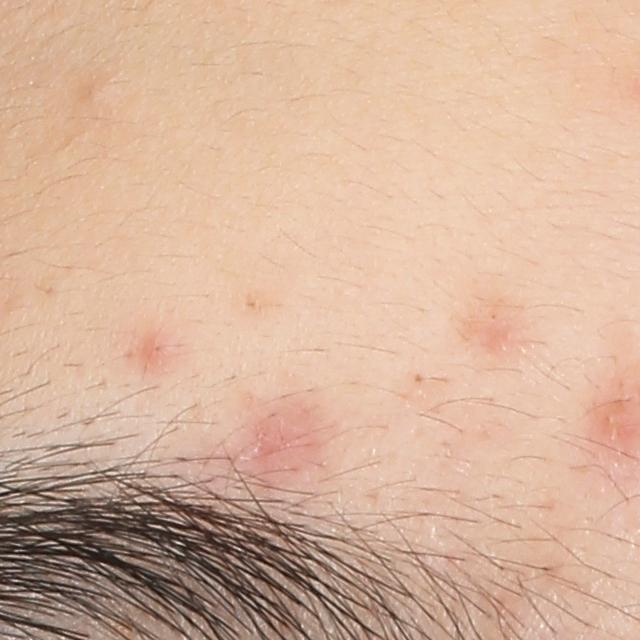comedo: (80, 79, 110, 107)
papule: (145, 335, 173, 363)
